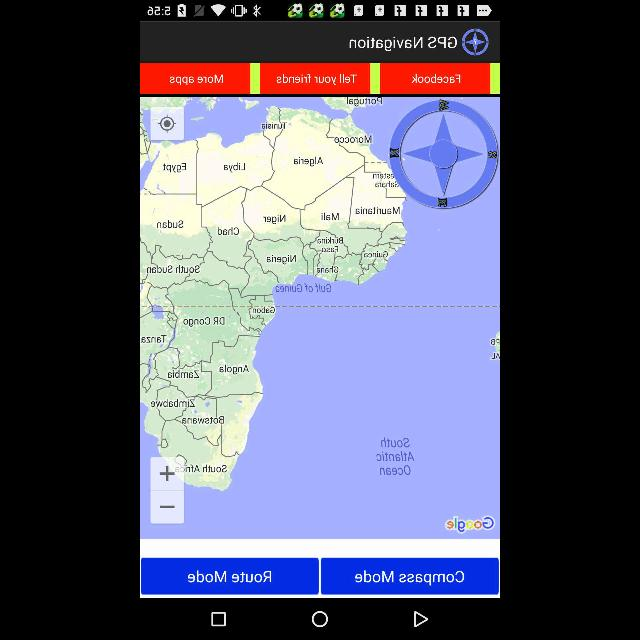icon: (461, 26, 489, 56), (412, 610, 430, 628), (311, 610, 329, 628), (210, 611, 228, 627)
iframe: (140, 64, 500, 96)
map: (140, 98, 500, 538)
panel: (140, 598, 500, 640)
text: (349, 34, 457, 51), (353, 570, 463, 586), (186, 572, 272, 582)
textbutton: (322, 558, 498, 594), (142, 558, 318, 592)
toolbar: (140, 21, 500, 64)
uppertaskbar: (140, 0, 500, 20)
